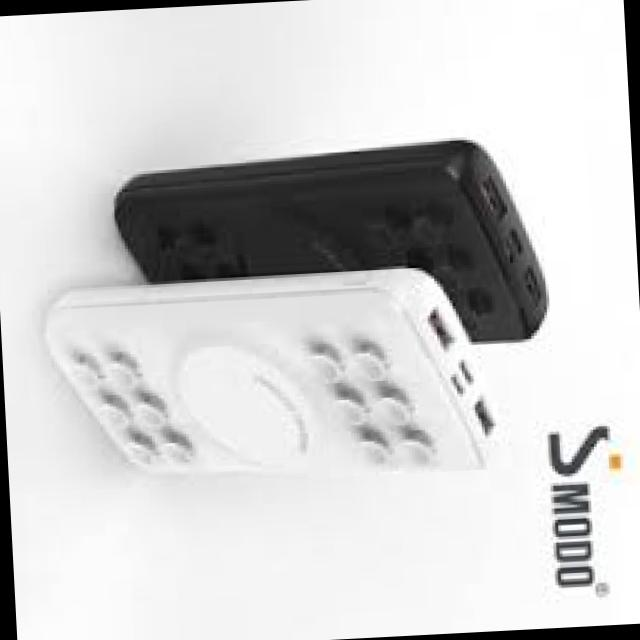power_bank: (39, 265, 503, 499), (110, 130, 556, 361)
